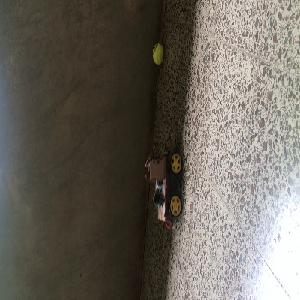Ball: (152, 43, 163, 64)
Robot: (143, 136, 183, 222)
